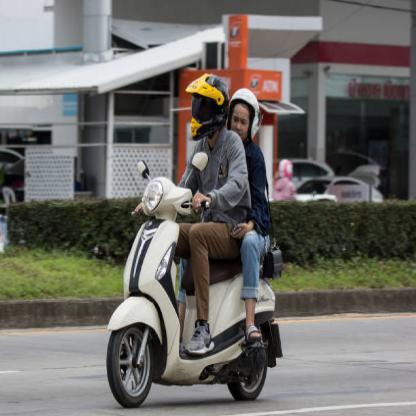Motorcycle: (104, 155, 281, 411)
